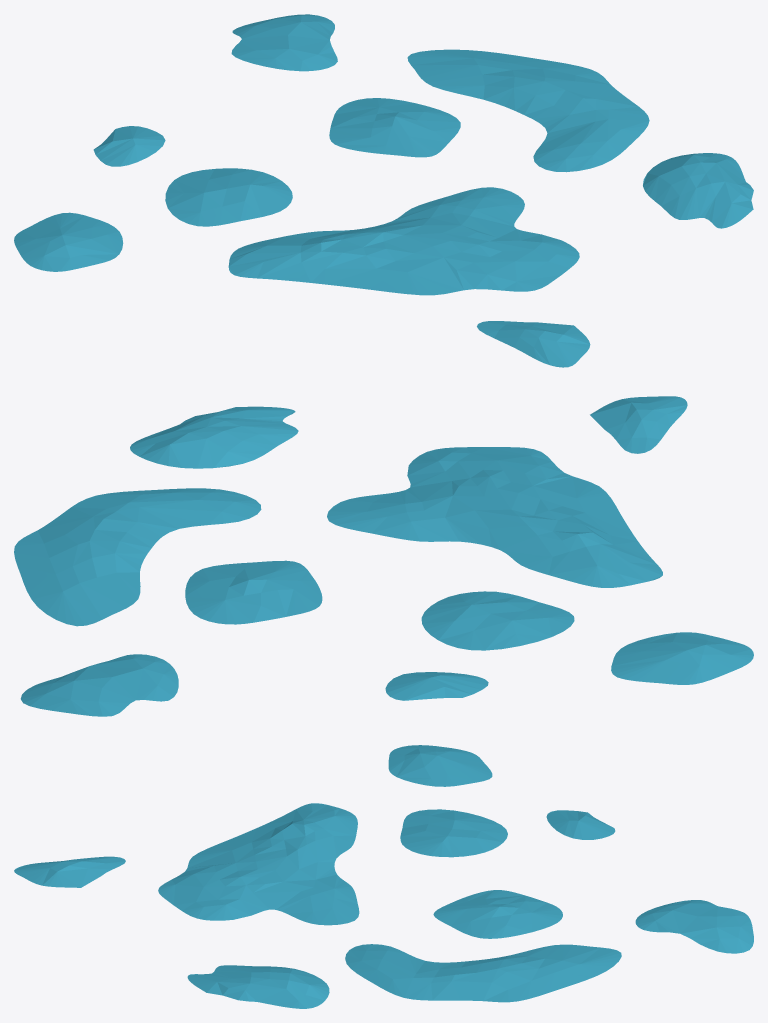
Rendered from SM_Env_Beach_Piles_01.glb.
3 views of the same model, one above another, from view 1: azimuth 30°, elevation 25°; view 2: azimuth 150°, elevation 25°; view 3: azimuth 270°, elevation 25° (orthographic). The views are drawn at different scales.
Visible parts, largest first — view 1: SM_Env_Beach_Piles_01; view 2: SM_Env_Beach_Piles_01; view 3: SM_Env_Beach_Piles_01.
Part boxes in pixels (x1,y1,x2,y2): SM_Env_Beach_Piles_01: (14,14,753,367); SM_Env_Beach_Piles_01: (14,396,753,716); SM_Env_Beach_Piles_01: (14,745,753,1008).
Size of the model in its own units: 0.1175 by 0.00452 by 0.1395.
